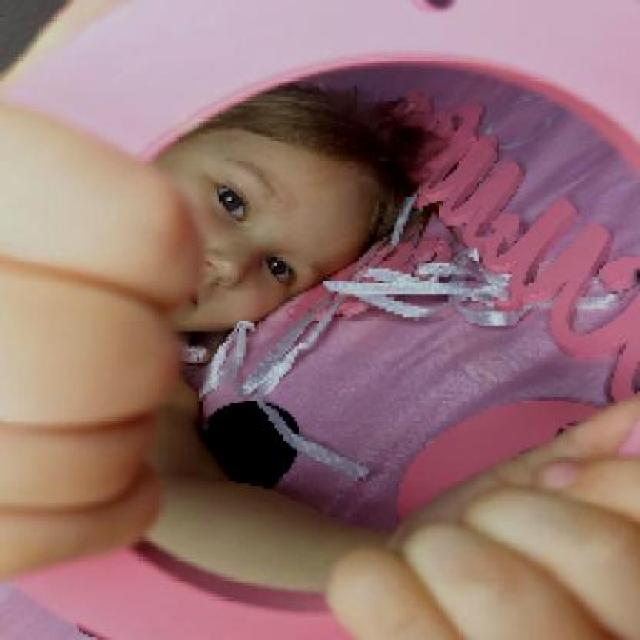child: (154, 83, 434, 340)
